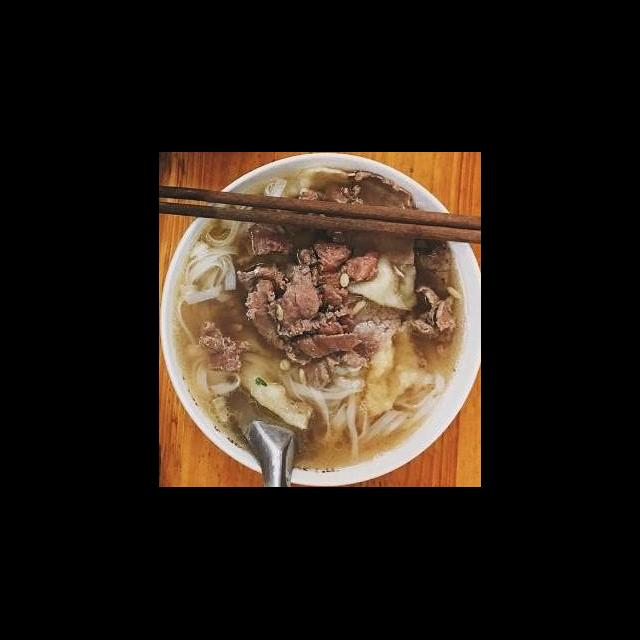banh pho: (286, 374, 407, 466), (173, 214, 251, 314)
pho bo: (159, 172, 474, 487)
thit bo: (232, 238, 379, 388), (301, 168, 424, 272), (354, 316, 422, 416), (354, 228, 418, 318), (403, 284, 463, 364), (199, 320, 254, 378)
